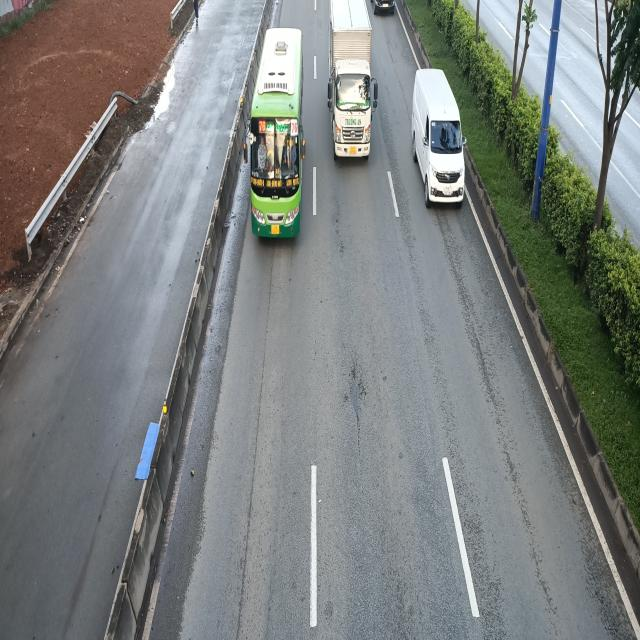coach: (243, 27, 308, 240)
truck: (328, 0, 378, 162)
van: (412, 67, 468, 207)
